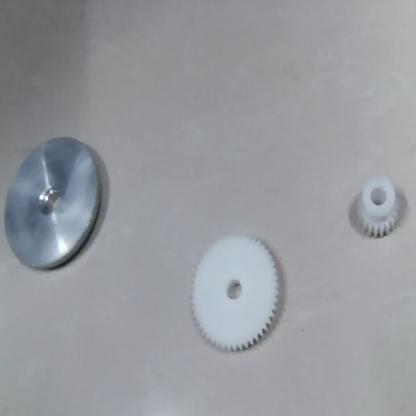FOD: (2, 137, 104, 271), (182, 231, 287, 357), (347, 175, 408, 243)
